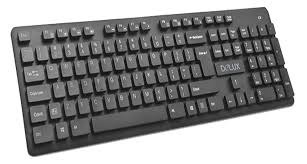keyboard: (10, 11, 300, 155)
